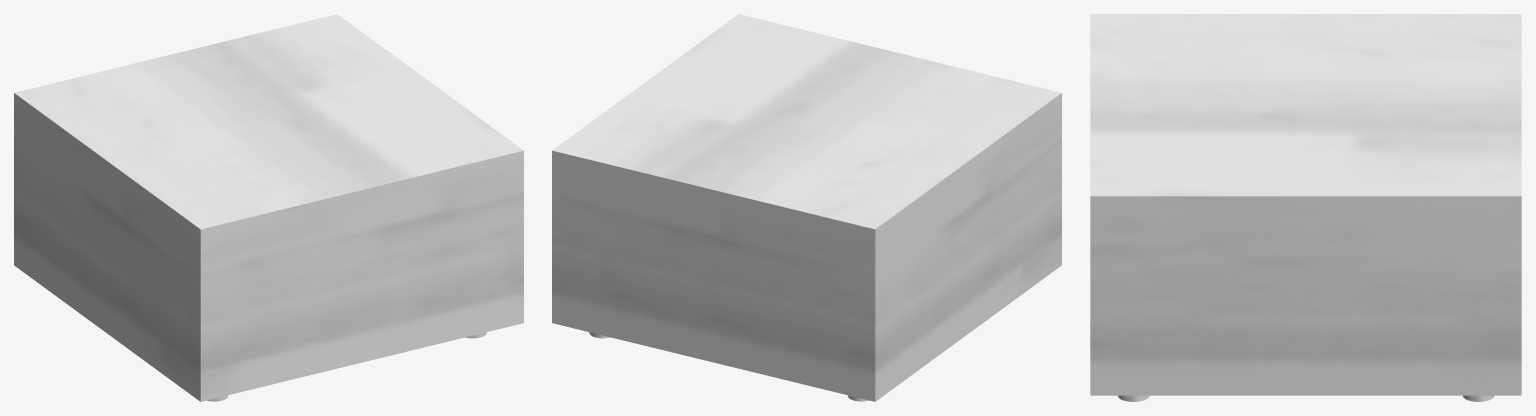
Rendered from Tu_to_khong_kinh.obj.
The picture shows the model from 3 angles, left to right: view 1: azimuth 30°, elevation 25°; view 2: azimuth 150°, elevation 25°; view 3: azimuth 270°, elevation 25°; orthographic projection. The views are drawn at different scales.
Parts seen in each view (by area): view 1: Cube_Cube.001; view 2: Cube_Cube.001; view 3: Cube_Cube.001.
Boxes of the visible parts, box(x1,y1,x2,y2) form: Cube_Cube.001: box(14, 14, 523, 401); Cube_Cube.001: box(552, 14, 1061, 401); Cube_Cube.001: box(1090, 14, 1521, 395).
Size of the model in its own units: 2 by 1.11 by 2.
Materials: 2 (2 with a texture image).
